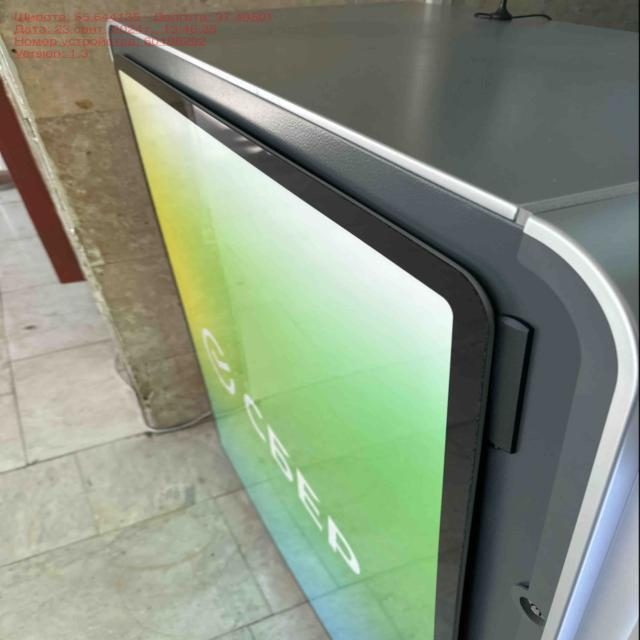bank: (103, 7, 639, 640)
